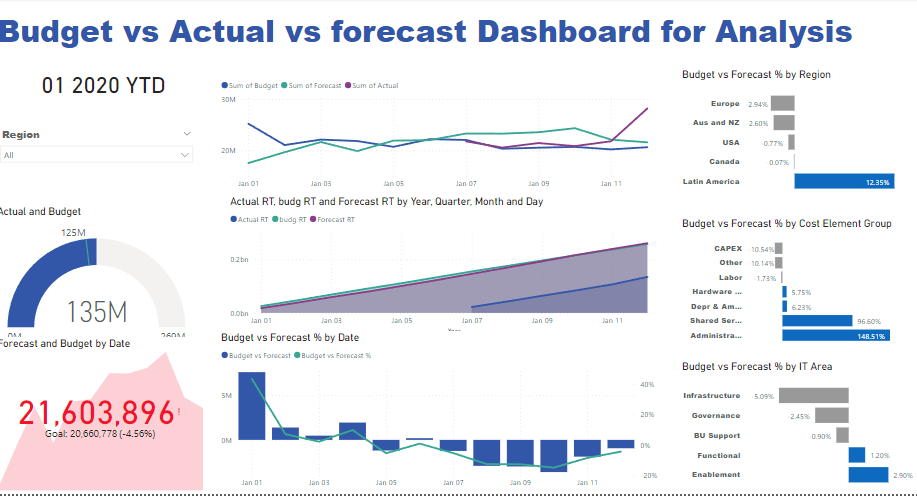

This screenshot's page, from the dashboard's own definition file:
{"tool":"powerbi","page":{"name":"Page 1","canvas":[1500,800],"ordinal":0},"visuals":[{"type":"gauge","fields":{"Y":["Sum(New Actuals.Actual)"],"TargetValue":["Sum(Budget.Budget)"]},"box":[0,333.7,330.5,233.3],"z":0},{"type":"kpi","fields":{"TrendLine":["Calendar.Date"],"Goal":["Sum(Budget.Budget)"],"Indicator":["Sum(Forecast.Forecast)"]},"box":[0,547.5,342.4,252.5],"z":1000},{"type":"lineChart","fields":{"Category":["Calendar.Date.Variation.Date Hierarchy.Year","Calendar.Date.Variation.Date Hierarchy.Quarter","Calendar.Date.Variation.Date Hierarchy.Month","Calendar.Date.Variation.Date Hierarchy.Day"],"Y":["Sum(Budget.Budget)","Sum(Forecast.Forecast)","Sum(New Actuals.Actual)"]},"box":[361.3,121,714.5,196.8],"z":2000},{"type":"areaChart","fields":{"Y":["Budget.Actual RT","New Actuals.budg RT","Forecast.Forecast RT"],"Category":["Calendar.Date.Variation.Date Hierarchy.Year","Calendar.Date.Variation.Date Hierarchy.Quarter","Calendar.Date.Variation.Date Hierarchy.Month","Calendar.Date.Variation.Date Hierarchy.Day"]},"box":[375.8,317.7,700,229],"z":3000},{"type":"lineClusteredColumnComboChart","title":"Budget vs Forecast % by Date","fields":{"Y":["Budget.Budget vs Forecast"],"Category":["Calendar.Date"],"Y2":["Budget.Budget % difference from Forecast"]},"box":[361.3,537.1,714.5,262.9],"z":4000},{"type":"clusteredBarChart","fields":{"Category":["Regions.Region"],"Y":["Budget.Budget % difference from Forecast"]},"box":[1104.8,112.9,395.2,212.9],"z":5000},{"type":"clusteredBarChart","fields":{"Category":["CostElements.Cost Element Group"],"Y":["Budget.Budget % difference from Forecast"]},"box":[1104.8,353.2,390.3,214.5],"z":6000},{"type":"clusteredBarChart","fields":{"Category":["Departments.IT Area"],"Y":["Budget.Budget % difference from Forecast"]},"box":[1104.8,583.9,390.3,216.1],"z":7000},{"type":"slicer","fields":{"Values":["Regions.Region"]},"box":[0,203.2,330.6,72.6],"z":8000},{"type":"card","fields":{"Values":["New Actuals.YTD Month"]},"box":[11.1,71.4,330.2,131.7],"z":9000}]}

Visuals, with their boxes in screenshot pixels (x1, y1, x2, y2), scaled from the page's 1500x800 canvas onto the 917x498 screenshot:
gauge - Sum(New Actuals.Actual) x Sum(Budget.Budget): [left=0, top=208, right=202, bottom=353]
kpi - Calendar.Date x Sum(Budget.Budget): [left=0, top=341, right=209, bottom=497]
lineChart - Calendar.Date.Variation.Date Hierarchy.Year x Calendar.Date.Variation.Date Hierarchy.Quarter: [left=221, top=75, right=658, bottom=198]
areaChart - Budget.Actual RT x New Actuals.budg RT: [left=230, top=198, right=658, bottom=340]
"Budget vs Forecast % by Date" lineClusteredColumnComboChart: [left=221, top=334, right=658, bottom=497]
clusteredBarChart - Regions.Region x Budget.Budget % difference from Forecast: [left=675, top=70, right=916, bottom=203]
clusteredBarChart - CostElements.Cost Element Group x Budget.Budget % difference from Forecast: [left=675, top=220, right=914, bottom=353]
clusteredBarChart - Departments.IT Area x Budget.Budget % difference from Forecast: [left=675, top=363, right=914, bottom=497]
slicer - Regions.Region: [left=0, top=126, right=202, bottom=172]
card - New Actuals.YTD Month: [left=7, top=44, right=209, bottom=126]
